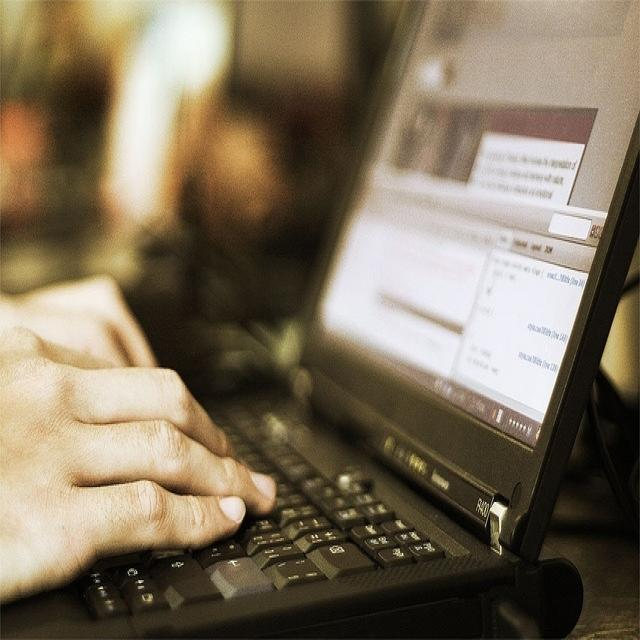E-waste: (243, 0, 634, 627)
